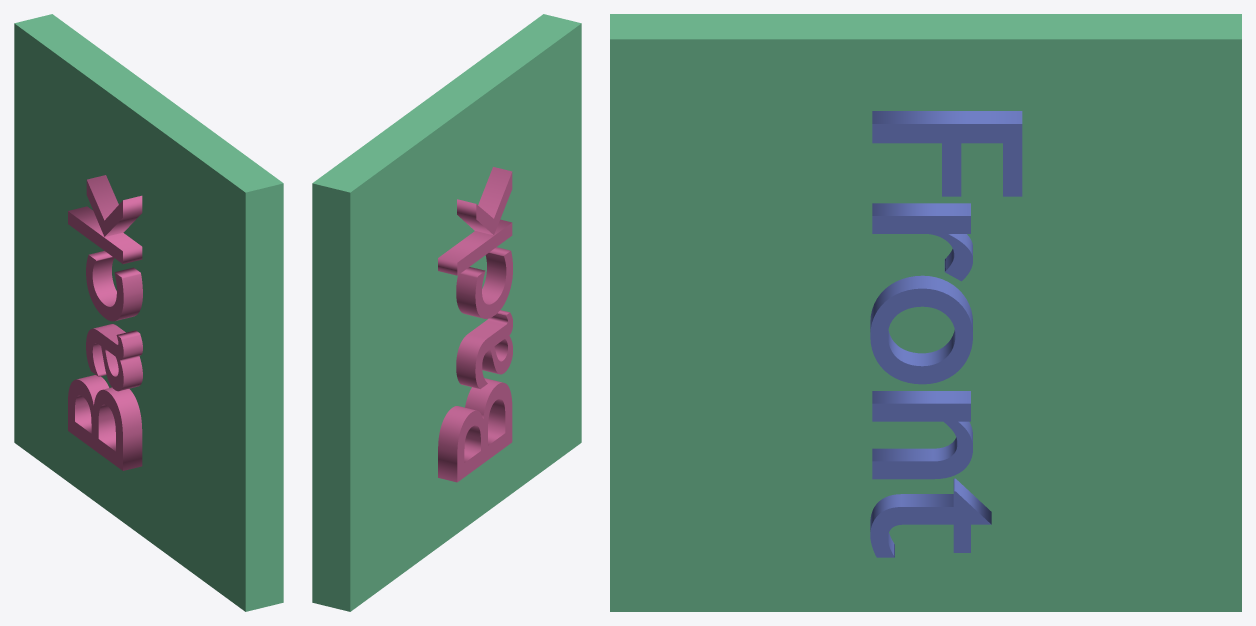
File: calendar_animation.fbx
The picture shows the model from 3 angles, left to right: view 1: azimuth 30°, elevation 25°; view 2: azimuth 150°, elevation 25°; view 3: azimuth 270°, elevation 25°; orthographic projection. The views are drawn at different scales.
Visible parts, largest first — view 1: Cube; view 2: Cube; view 3: Cube.
Boxes of the visible parts, bbox=[...] form: Cube: bbox=[14, 14, 283, 611]; Cube: bbox=[312, 14, 581, 611]; Cube: bbox=[610, 14, 1241, 611].
Size of the model in its own units: 0.4477 by 2 by 2.
